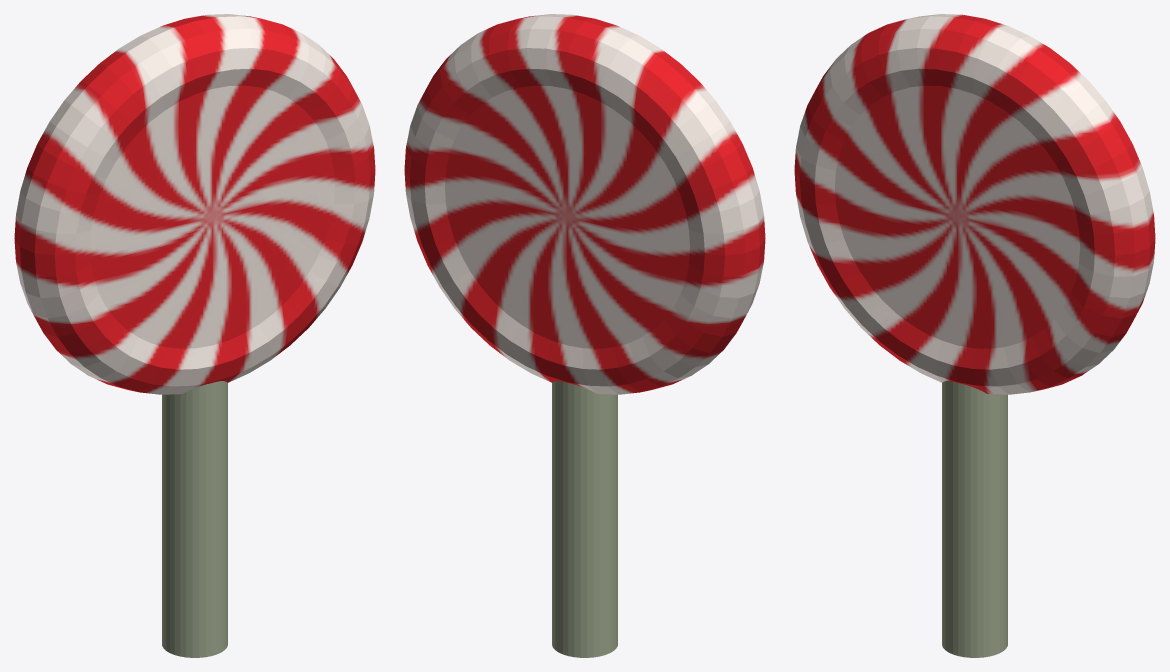
Rendered from candy 1.fbx.
The picture shows the model from 3 angles, left to right: view 1: azimuth 30°, elevation 25°; view 2: azimuth 150°, elevation 25°; view 3: azimuth 330°, elevation 25°; orthographic projection.
Visible parts, largest first — view 1: CANDY3; view 2: CANDY3; view 3: CANDY3.
Boxes of the visible parts, x1,y1,x2,y2 form: CANDY3: [14, 14, 375, 657]; CANDY3: [404, 14, 765, 657]; CANDY3: [794, 14, 1155, 657].
Size of the model in its own units: 0.1612 by 0.274 by 0.0322.
